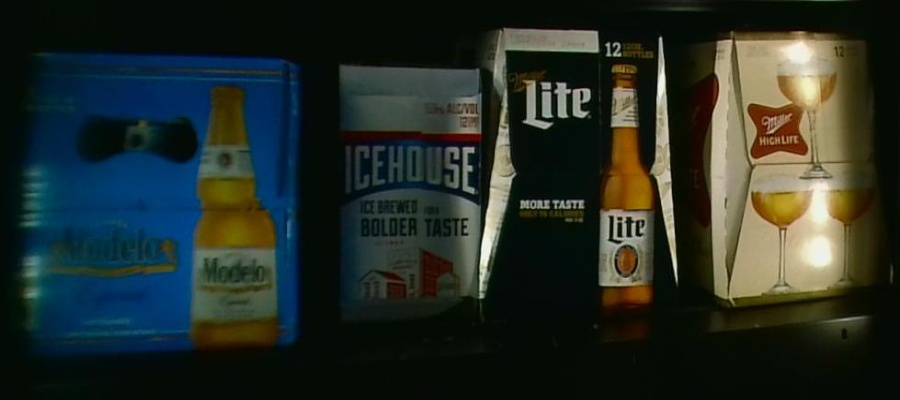bottle: (9, 50, 303, 346), (490, 25, 679, 325), (683, 29, 892, 298), (336, 61, 481, 337)
